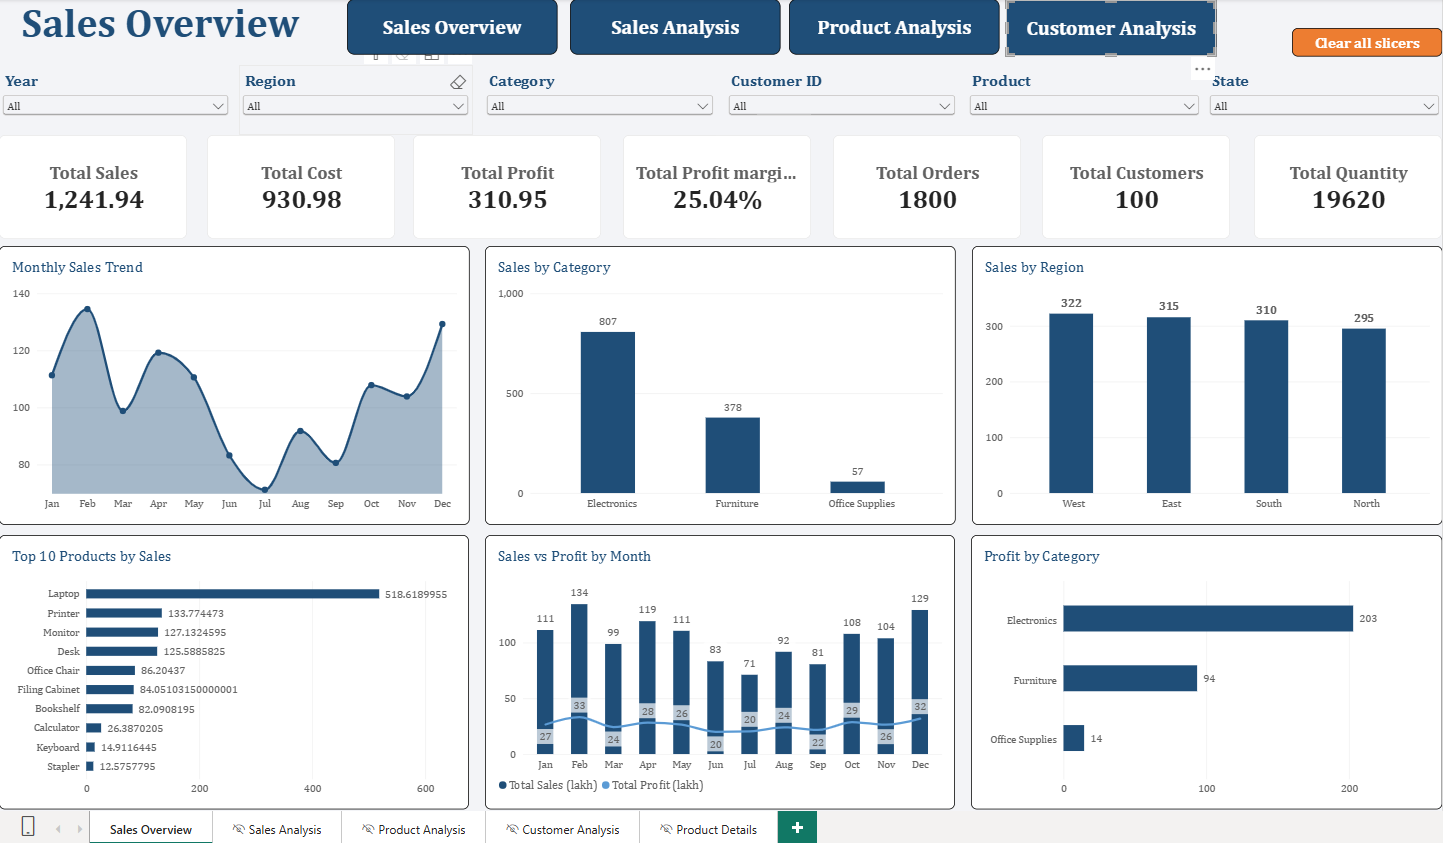

The dashboard page shown, as its layout file describes it:
{"tool":"powerbi","page":{"name":"Sales Overview","canvas":[1920,1080],"ordinal":0},"visuals":[{"type":"slicer","fields":{"Values":["Dim_Date.Year"]},"box":[0,87.5,310,93.7],"z":0},{"type":"slicer","fields":{"Values":["Sales_Data.Region"]},"box":[319.5,87.5,310.3,93.7],"z":1000},{"type":"slicer","fields":{"Values":["Product_Master.Category"]},"box":[643.4,87.5,310.8,93.4],"z":2000},{"type":"slicer","fields":{"Values":["Customer_Master.Customer ID"]},"box":[965.8,87.5,310.8,93.4],"z":3000},{"type":"slicer","fields":{"Values":["Product_Master.Product"]},"box":[1286.8,87.5,315.1,93.4],"z":4000},{"type":"slicer","fields":{"Values":["Sales_Data.State"]},"box":[1604.9,87.5,315,93.7],"z":5000},{"type":"cardVisual","title":"Total Sales ","fields":{"Data":["Sales_Data.Total Sales (lakh)"]},"box":[0,180.9,250,139],"z":6000},{"type":"cardVisual","title":"Total Sales ","fields":{"Data":["Sales_Data.total cost (lakh)"]},"box":[277.2,180.9,250,139],"z":7000},{"type":"cardVisual","title":"Total Sales ","fields":{"Data":["Sales_Data.Total Profit (lakh)"]},"box":[550,180.9,250,139],"z":8000},{"type":"cardVisual","title":"Total Sales ","fields":{"Data":["Sales_Data.Total Profit margin %"]},"box":[830.2,180.9,250,139],"z":9000},{"type":"cardVisual","title":"Total Sales ","fields":{"Data":["Sales_Data.Total Orders"]},"box":[1108.8,180.9,250,139],"z":10000},{"type":"cardVisual","title":"Total Sales ","fields":{"Data":["Sales_Data.Total Customers"]},"box":[1387.5,180.9,250,139],"z":11000},{"type":"cardVisual","title":"Total Sales ","fields":{"Data":["Sales_Data.Total Quantity"]},"box":[1669.1,180.9,250,139],"z":12000},{"type":"actionButton","box":[1720.1,37.9,199.9,37.9],"z":13000},{"type":"actionButton","box":[462.5,0,280,74.4],"z":14000},{"type":"actionButton","box":[760.1,0,280,74.4],"z":15000},{"type":"actionButton","box":[1050.5,0,280.1,74.4],"z":16000},{"type":"actionButton","box":[1339.3,1.5,280,74.4],"z":17000},{"type":"lineChart","title":"Monthly Sales Trend","fields":{"Category":["Dim_Date.Month"],"Y":["Sales_Data.Total Sales (lakh)"]},"box":[0,328.3,626,370.6],"z":18000},{"type":"columnChart","title":"Sales by Category ","fields":{"Category":["Product_Master.Category"],"Y":["Sales_Data.Total Sales (lakh)"]},"box":[646.3,328.3,626,370.6],"z":19000},{"type":"columnChart","title":"Sales by Region","fields":{"Category":["Sales_Data.Region"],"Y":["Sales_Data.Total Sales (lakh)"]},"box":[1294.1,328.3,626,370.6],"z":20000},{"type":"barChart","title":"Top 10 Products by Sales","fields":{"Category":["Product_Master.Product"],"Y":["Sales_Data.Total Sales (lakh)"]},"box":[0,712.4,625.2,365.4],"z":21000},{"type":"lineClusteredColumnComboChart","title":"Sales vs Profit by Month","fields":{"Category":["Dim_Date.Month"],"Y":["Sales_Data.Total Sales (lakh)"],"Y2":["Sales_Data.Total Profit (lakh)"]},"box":[646.6,712.4,625.2,365.4],"z":22000},{"type":"clusteredBarChart","title":"Profit by Category","fields":{"Category":["Product_Master.Category"],"Y":["Sales_Data.Total Profit (lakh)"]},"box":[1293.2,712.4,626.8,365.4],"z":23000},{"type":"textbox","box":[11.7,0,405.6,75.9],"z":24000}]}

Visuals, with their boxes on the page's 1920x1080 design canvas (x1, y1, x2, y2). These are canvas units, not pixel positions in the 1443x843 screenshot, which may show the page scaled, cropped or inside an application window:
slicer - Dim_Date.Year: detection(0, 88, 310, 181)
slicer - Sales_Data.Region: detection(320, 88, 630, 181)
slicer - Product_Master.Category: detection(643, 88, 954, 181)
slicer - Customer_Master.Customer ID: detection(966, 88, 1277, 181)
slicer - Product_Master.Product: detection(1287, 88, 1602, 181)
slicer - Sales_Data.State: detection(1605, 88, 1920, 181)
"Total Sales " cardVisual: detection(0, 181, 250, 320)
"Total Sales " cardVisual: detection(277, 181, 527, 320)
"Total Sales " cardVisual: detection(550, 181, 800, 320)
"Total Sales " cardVisual: detection(830, 181, 1080, 320)
"Total Sales " cardVisual: detection(1109, 181, 1359, 320)
"Total Sales " cardVisual: detection(1388, 181, 1638, 320)
"Total Sales " cardVisual: detection(1669, 181, 1919, 320)
actionButton: detection(1720, 38, 1920, 76)
actionButton: detection(462, 0, 742, 74)
actionButton: detection(760, 0, 1040, 74)
actionButton: detection(1050, 0, 1331, 74)
actionButton: detection(1339, 2, 1619, 76)
"Monthly Sales Trend" lineChart: detection(0, 328, 626, 699)
"Sales by Category " columnChart: detection(646, 328, 1272, 699)
"Sales by Region" columnChart: detection(1294, 328, 1920, 699)
"Top 10 Products by Sales" barChart: detection(0, 712, 625, 1078)
"Sales vs Profit by Month" lineClusteredColumnComboChart: detection(647, 712, 1272, 1078)
"Profit by Category" clusteredBarChart: detection(1293, 712, 1920, 1078)
textbox: detection(12, 0, 417, 76)
